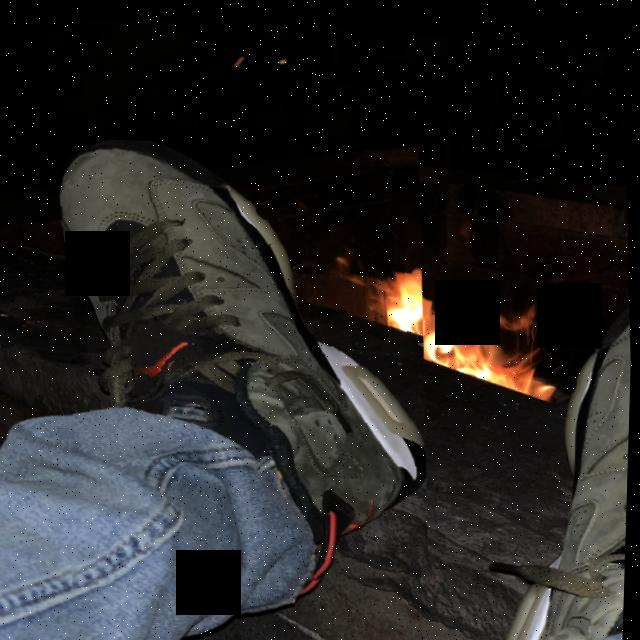shoe: (42, 118, 443, 610)
